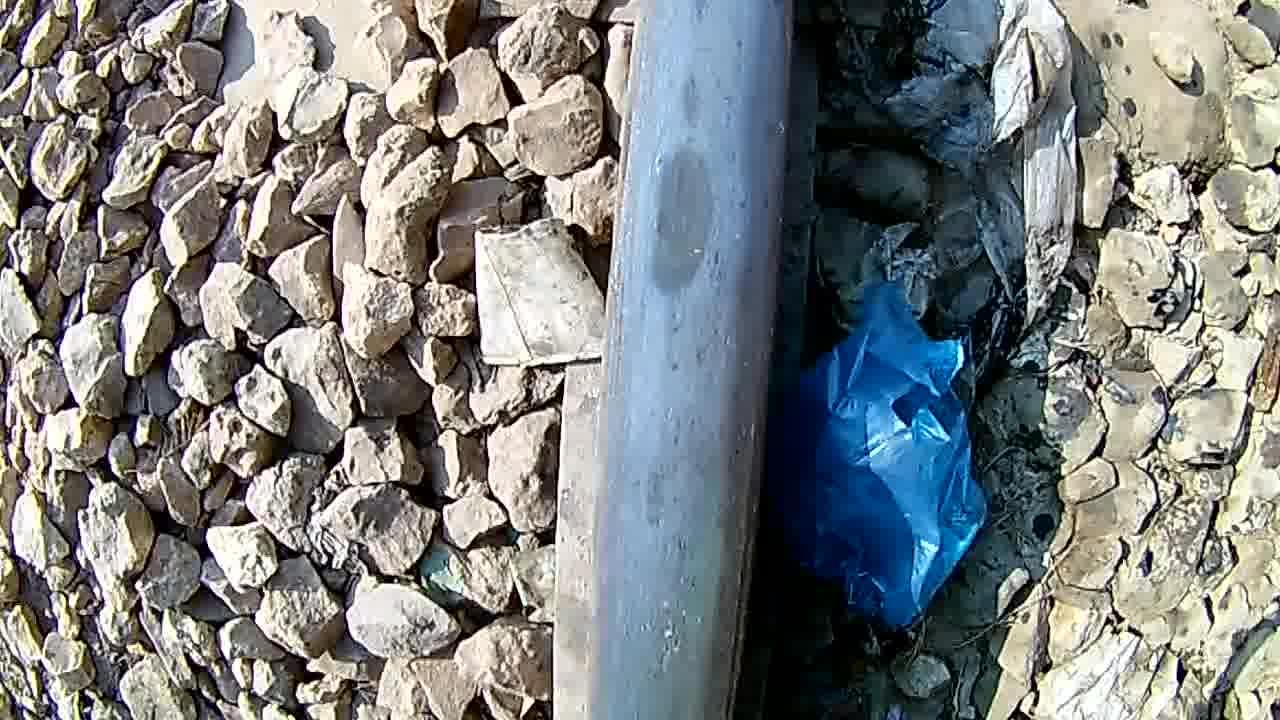bolt_missing: (626, 0, 761, 369)
